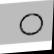no answer: (18, 10, 45, 38)
